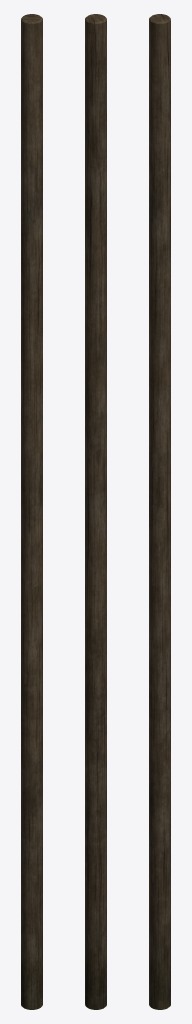
Rendered from electric-pole.glb.
3 views of the same model, side by side, from view 1: azimuth 30°, elevation 25°; view 2: azimuth 150°, elevation 25°; view 3: azimuth 330°, elevation 25° (orthographic).
Visible parts, largest first — view 1: pole_large; view 2: pole_large; view 3: pole_large.
Part boxes in pixels (box(x1,y1,x2,y2)): pole_large: box(21, 14, 42, 1009); pole_large: box(85, 14, 106, 1009); pole_large: box(149, 14, 170, 1009).
Bounding box in the file's own units: 0.1978 × 10 × 0.1978.
1 material, 1 textured.
